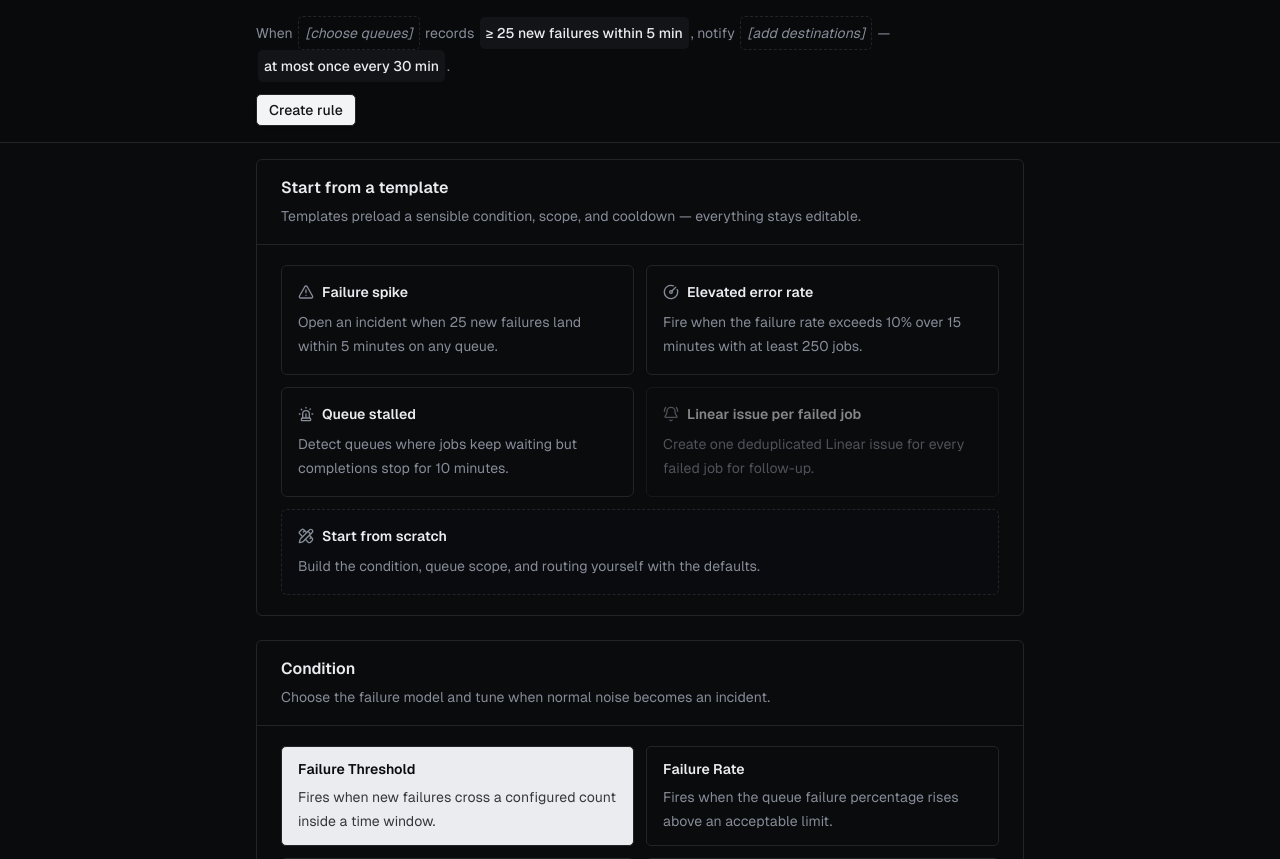
Scenario: AlertRuleBuilder › shows the template picker in create mode and collapses it after a choice
Check: the heading "Start from a template" is shown, box [281,178,448,197]
Click the button with test id "rule-template-failure-spike". click: coordinates (458, 320)
box: [281,265,634,375]
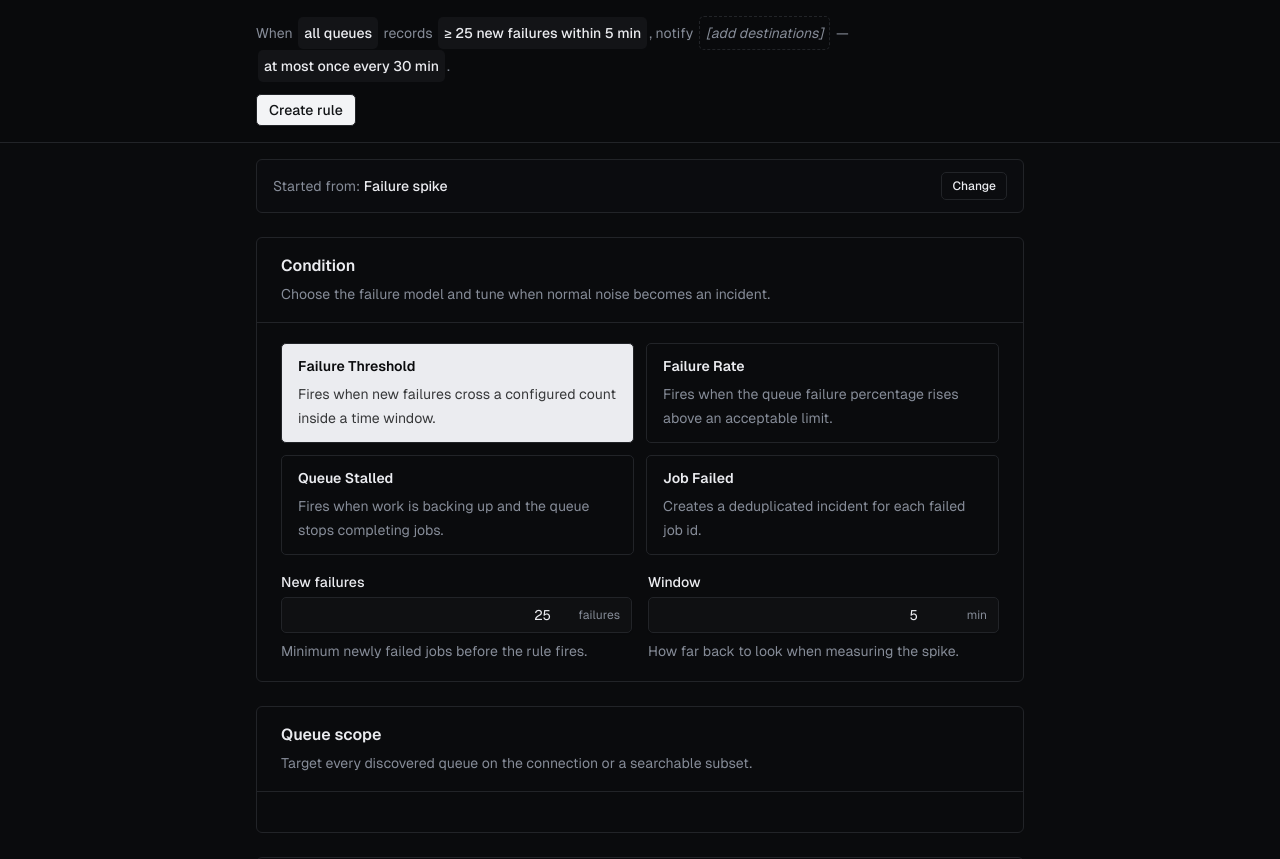
Check: the heading "Start from a template" is gone
Check: the text "Started from: Failure spike" is shown, box [273,176,448,196]
Check: the button with test id "sentence-token-queues" reads "all queues", box [298,17,378,49]
